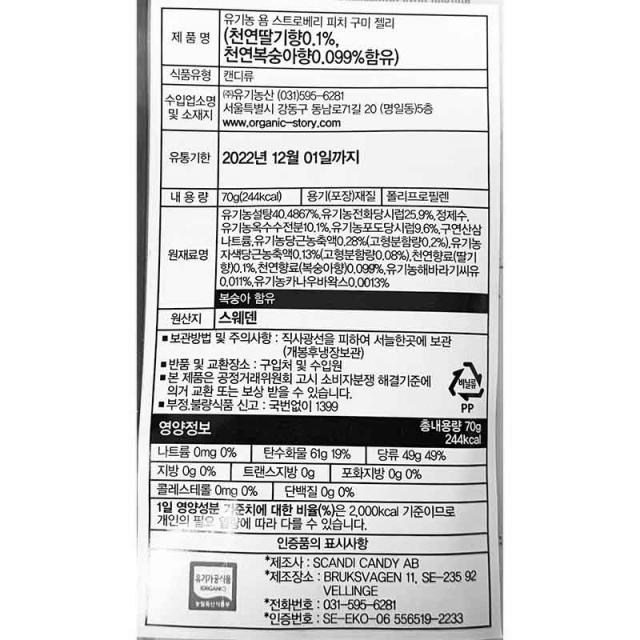Nutrition Label: (144, 412, 510, 561)
